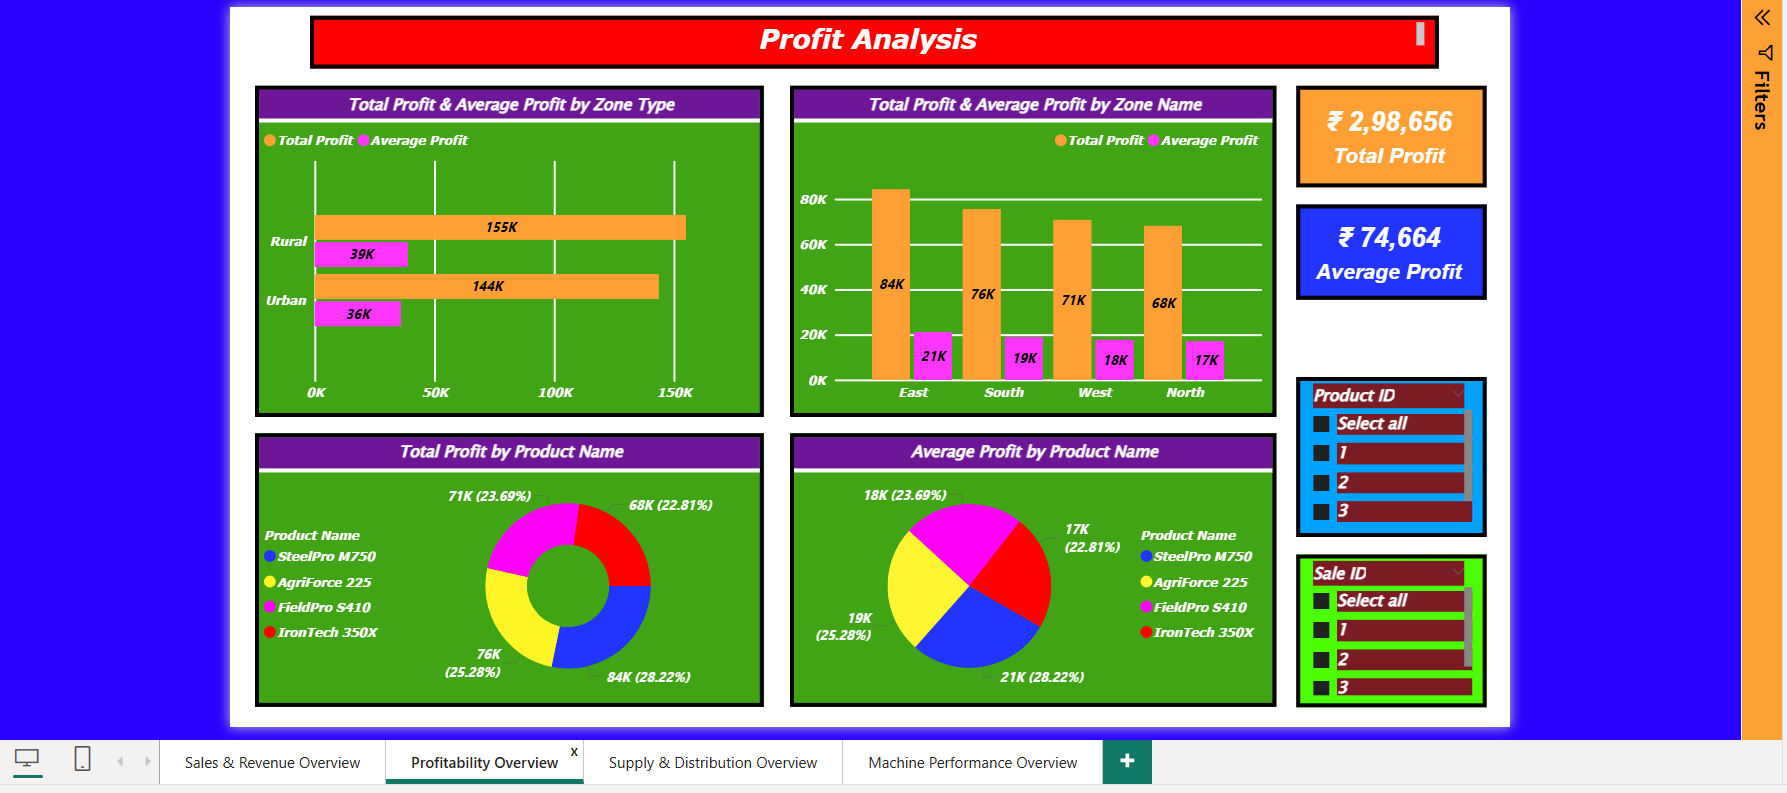

This screenshot's page, from the dashboard's own definition file:
{"tool":"powerbi","page":{"name":"Profitability Overview","canvas":[1280,720],"ordinal":1},"visuals":[{"type":"pieChart","title":"Average Profit by Product Name","fields":{"Category":["Inventory_Details.Product Name"],"Y":["Sum(Profit Calculation Table.Average Profit)"]},"box":[559.8,425.9,486.2,273.9],"z":0},{"type":"clusteredColumnChart","title":"Total Profit & Average Profit by Zone Name","fields":{"Category":["Zone_Overview.Zone Name"],"Y":["Sum(Profit Calculation Table.Total Profit)","Sum(Profit Calculation Table.Average Profit)"]},"box":[560,78.8,486.2,331.2],"z":1000},{"type":"card","fields":{"Values":["Sum(Profit Calculation Table.Average Profit)"]},"box":[1066.2,197.5,190,95],"z":2000},{"type":"card","fields":{"Values":["Sum(Profit Calculation Table.Total Profit)"]},"box":[1066.2,78.8,190,101.2],"z":3000},{"type":"textbox","box":[80,8.8,1128.8,52.5],"z":6000},{"type":"slicer","fields":{"Values":["Inventory_Details.Product ID"]},"box":[1066.2,370,190,160],"z":7000},{"type":"slicer","fields":{"Values":["Sales_Records.Sale ID"]},"box":[1066.2,547.5,190,152.5],"z":8000},{"type":"donutChart","title":"Total Profit by Product Name","fields":{"Category":["Inventory_Details.Product Name"],"Y":["Sum(Profit Calculation Table.Total Profit)"]},"box":[25,426.2,508.8,273.8],"z":9000},{"type":"clusteredBarChart","title":"Total Profit & Average Profit by Zone Type","fields":{"Category":["Zone_Overview.Zone Type"],"Y":["Sum(Profit Calculation Table.Total Profit)","Sum(Profit Calculation Table.Average Profit)"]},"box":[25,78.8,508.8,331.2],"z":10000}]}

Visuals, with their boxes on the page's 1280x720 design canvas (x1, y1, x2, y2). These are canvas units, not pixel positions in the 1787x793 screenshot, which may show the page scaled, cropped or inside an application window:
"Average Profit by Product Name" pieChart: 560/426/1046/700
"Total Profit & Average Profit by Zone Name" clusteredColumnChart: 560/79/1046/410
card - Sum(Profit Calculation Table.Average Profit): 1066/198/1256/292
card - Sum(Profit Calculation Table.Total Profit): 1066/79/1256/180
textbox: 80/9/1209/61
slicer - Inventory_Details.Product ID: 1066/370/1256/530
slicer - Sales_Records.Sale ID: 1066/548/1256/700
"Total Profit by Product Name" donutChart: 25/426/534/700
"Total Profit & Average Profit by Zone Type" clusteredBarChart: 25/79/534/410
